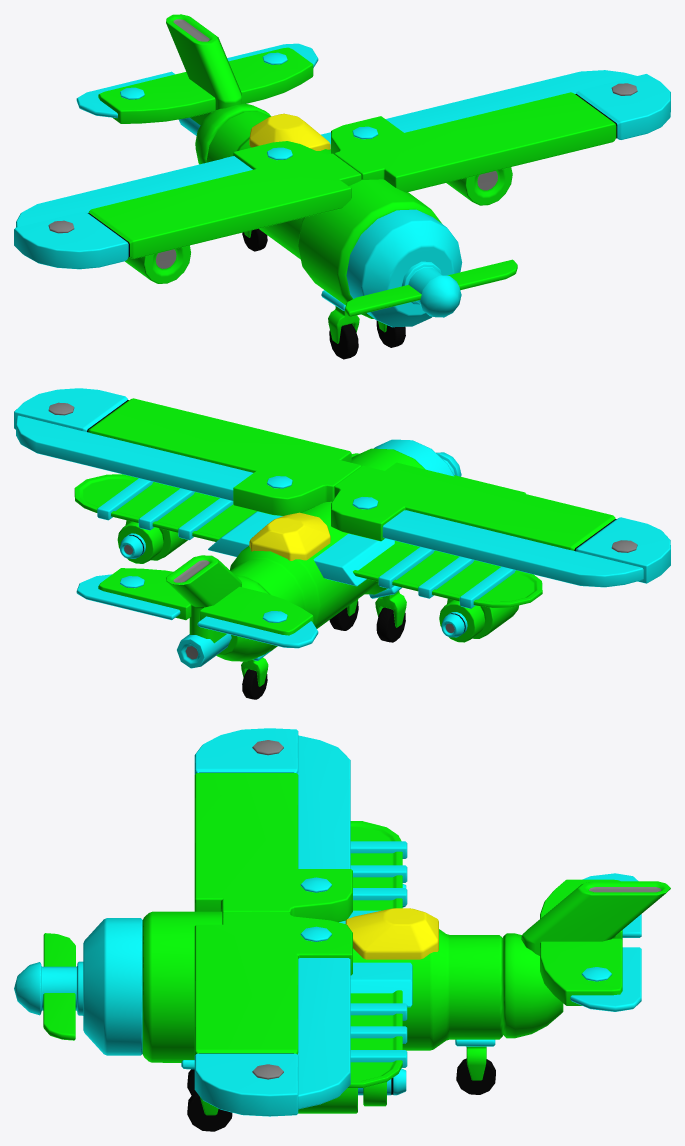
3 views of the same model, one above another, from view 1: azimuth 30°, elevation 25°; view 2: azimuth 150°, elevation 25°; view 3: azimuth 270°, elevation 25° (orthographic). The views are drawn at different scales.
Visible parts, largest first — view 1: Wing18_R_A, Wing18_L_A, Fin18, Body18_A, Propeller18_A, Propeller18_B, Spurt18_R, Spurt18_L, Body18_C, Body18_D; view 2: Wing18_R_A, Wing18_L_A, Fin18, Wing18_R_B, Body18_A, Wing18_L_B, Spurt18_R, Spurt18_L, Body18_C, Propeller18_A, Body18_B, Body18_D; view 3: Wing18_L_A, Wing18_R_A, Body18_A, Fin18, Propeller18_A, Wing18_L_B, Wing18_R_B, Propeller18_B, Spurt18_L, Body18_B, Body18_D.
Part boxes in pixels (<box>): Wing18_R_A: <box>14,141,361,269</box>; Wing18_L_A: <box>331,70,670,192</box>; Fin18: <box>76,14,318,164</box>; Body18_A: <box>206,111,441,318</box>; Propeller18_A: <box>346,209,462,327</box>; Propeller18_B: <box>345,259,517,316</box>; Spurt18_R: <box>125,245,190,283</box>; Spurt18_L: <box>446,167,512,205</box>; Body18_C: <box>321,290,359,359</box>; Body18_D: <box>376,320,405,347</box>; Wing18_R_A: <box>331,462,670,587</box>; Wing18_L_A: <box>14,388,361,515</box>; Fin18: <box>76,555,318,668</box>; Wing18_R_B: <box>313,533,542,608</box>; Body18_A: <box>230,448,425,651</box>; Wing18_L_B: <box>74,474,282,556</box>; Spurt18_R: <box>439,599,518,642</box>; Spurt18_L: <box>117,520,187,563</box>; Body18_C: <box>369,585,406,642</box>; Propeller18_A: <box>374,439,461,476</box>; Body18_B: <box>241,651,270,699</box>; Body18_D: <box>329,599,358,630</box>; Wing18_L_A: <box>194,912,352,1116</box>; Wing18_R_A: <box>194,728,352,922</box>; Body18_A: <box>142,908,502,1062</box>; Fin18: <box>503,873,670,1038</box>; Propeller18_A: <box>14,918,142,1055</box>; Wing18_L_B: <box>348,962,412,1087</box>; Wing18_R_B: <box>339,821,407,923</box>; Propeller18_B: <box>43,933,75,1040</box>; Spurt18_L: <box>298,1068,406,1113</box>; Body18_B: <box>455,1039,495,1094</box>; Body18_D: <box>181,1060,232,1131</box>.
Bounding box in the file's own units: 23.51 × 6.82 × 17.76.
